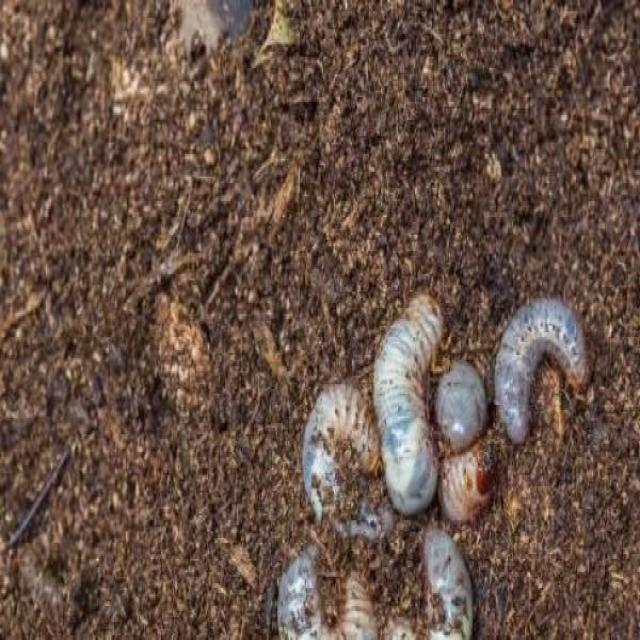Grub-Adult-: (362, 281, 453, 527), (295, 372, 402, 545), (492, 286, 597, 460)
